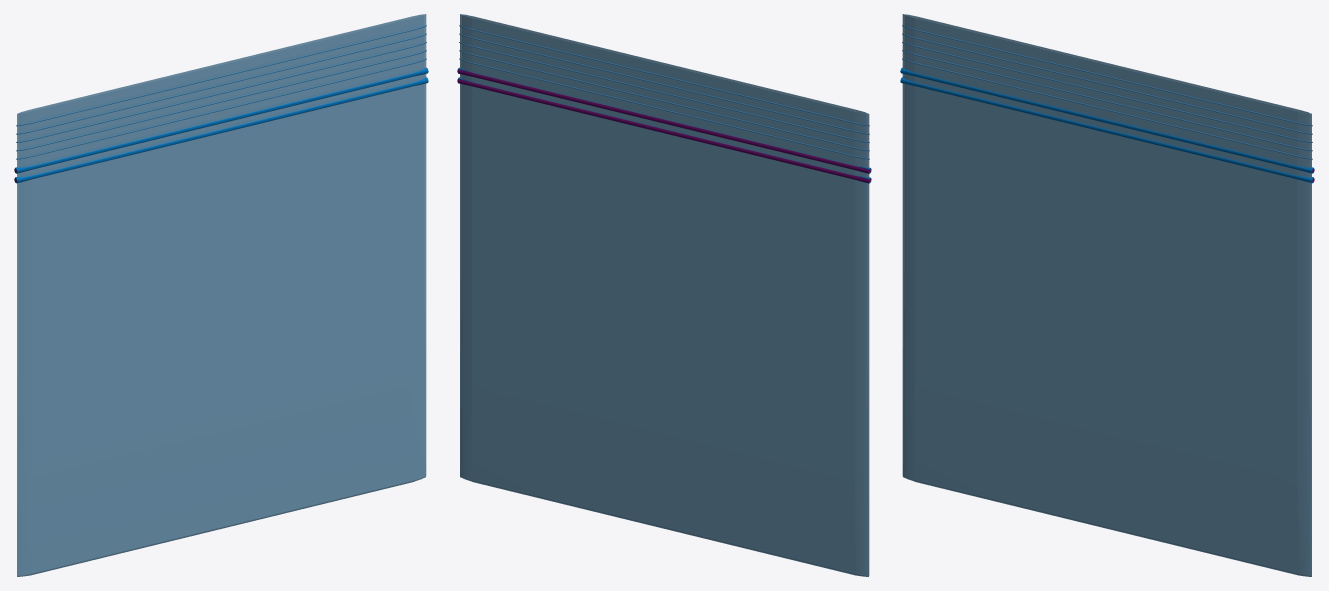
File: ZipLockBag_ForConcreteMix.fbx
3 views of the same model, side by side, from view 1: azimuth 30°, elevation 25°; view 2: azimuth 150°, elevation 25°; view 3: azimuth 330°, elevation 25° (orthographic).
Parts seen in each view (by area): view 1: PlasticBag3; view 2: PlasticBag3; view 3: PlasticBag3.
Part boxes in pixels (x1=…): PlasticBag3: x1=14, y1=14, x2=428, y2=576; PlasticBag3: x1=457, y1=14, x2=871, y2=576; PlasticBag3: x1=900, y1=14, x2=1314, y2=576.
Bounding box in the file's own units: 12.77 × 13.79 × 0.1544.
